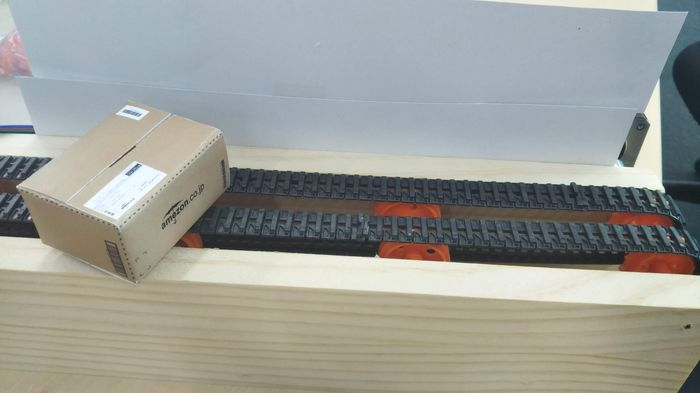box1: (16, 95, 234, 286)
